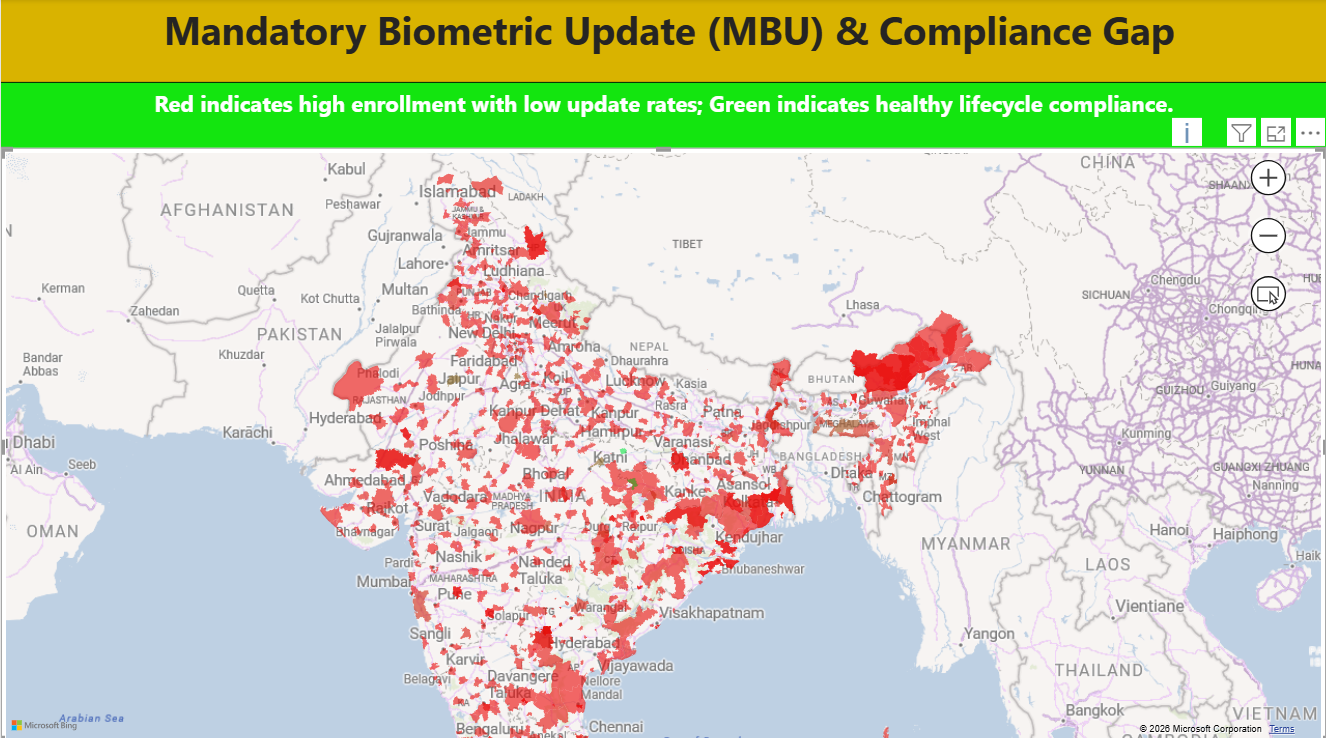

What the dashboard file says about the page in this screenshot:
{"tool":"powerbi","page":{"name":"Page 2","canvas":[1280,720],"ordinal":1},"visuals":[{"type":"textbox","box":[0,0,1279.7,80.4],"z":0},{"type":"filledMap","fields":{"Category":["Master_District_List.District"]},"box":[0,144,1278.5,577.3],"z":1000},{"type":"textbox","box":[0,80.4,1279.7,63.6],"z":2000},{"type":"pageNavigator","box":[315.4,686.7,552.6,33.5],"z":3000}]}

Visuals, with their boxes in screenshot pixels (x1, y1, x2, y2), scaled from the page's 1280x720 canvas onto the 1326x738 screenshot:
textbox: box(0, 0, 1325, 82)
filledMap - Master_District_List.District: box(0, 148, 1324, 737)
textbox: box(0, 82, 1325, 148)
pageNavigator: box(327, 704, 899, 737)
